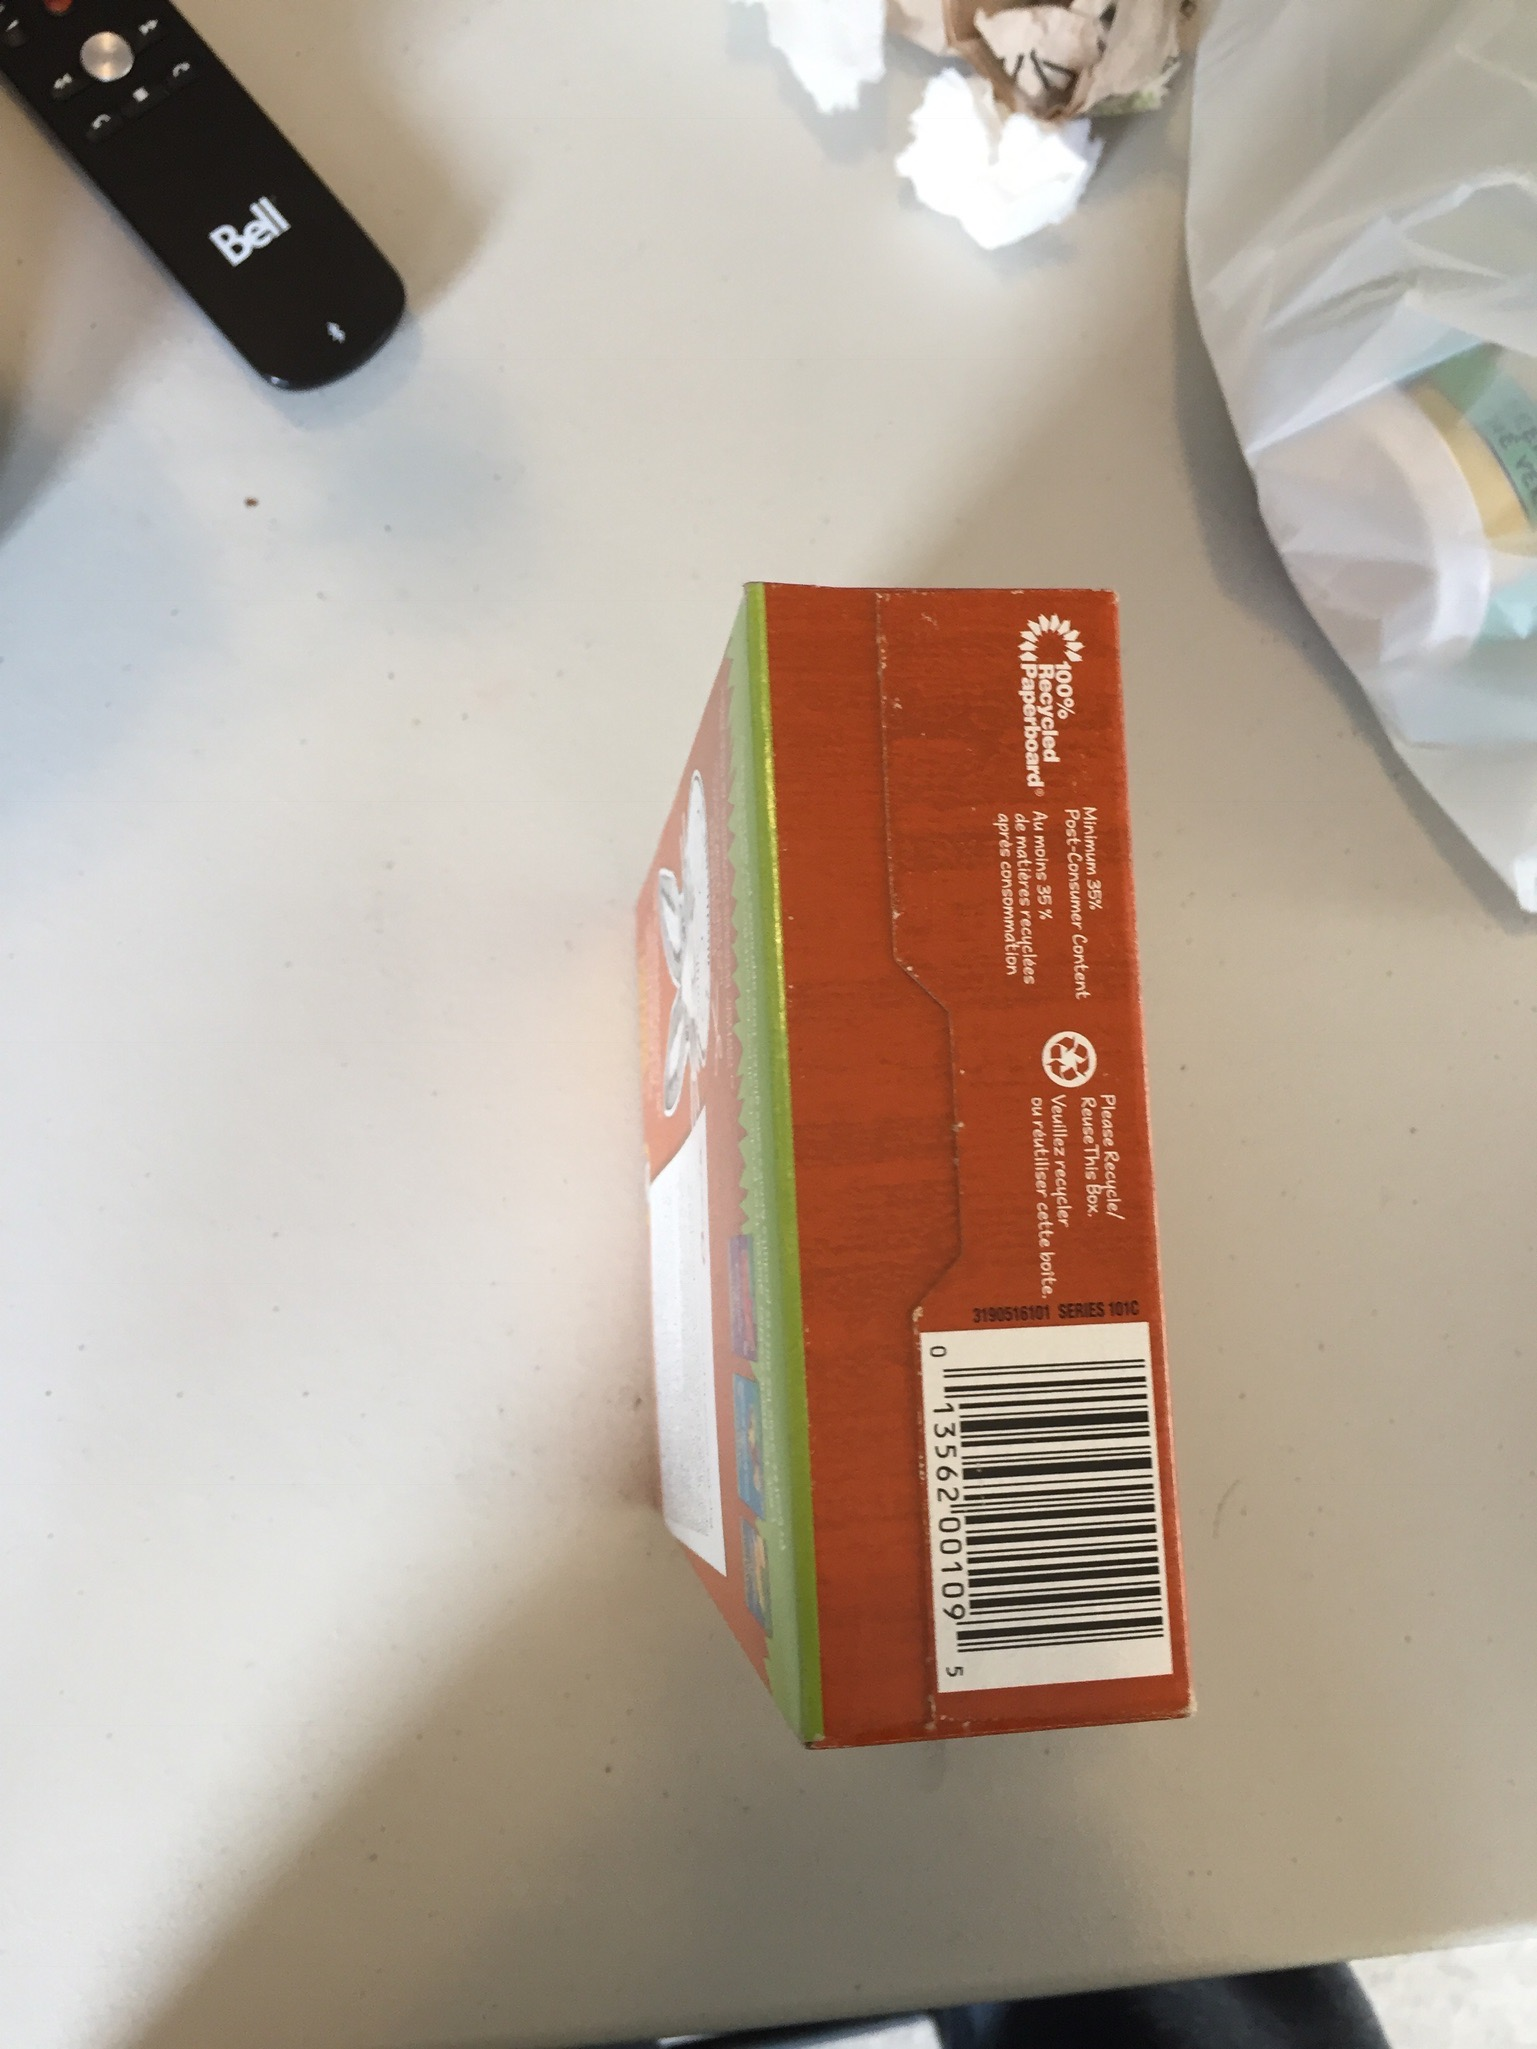annies_snickerdoodle_cinnamon_sugar: (760, 588, 1166, 1720)
